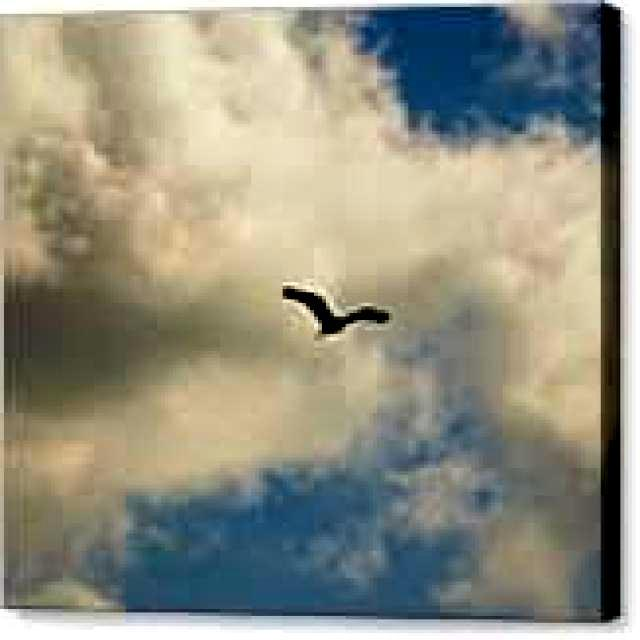bird: (283, 275, 395, 337)
